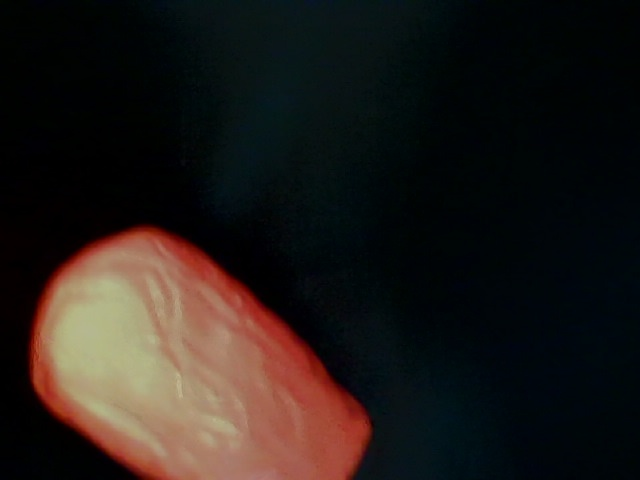YHLJ: (267, 84, 349, 164)
